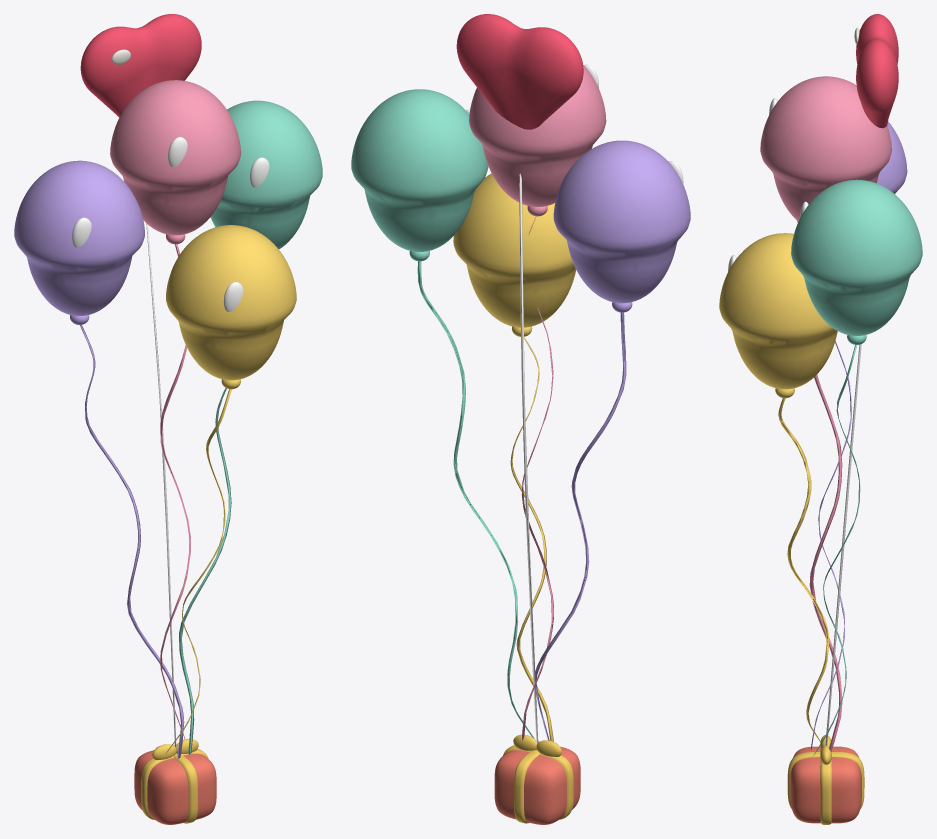
Rendered from globos.glb.
3 views of the same model, side by side, from view 1: azimuth 30°, elevation 25°; view 2: azimuth 150°, elevation 25°; view 3: azimuth 270°, elevation 25° (orthographic). The views are drawn at different scales.
Parts seen in each view (by area): view 1: globo 3, globo 2, globo 0, globo 1, corazón, regalo, cinta 2, cinta 1, cinta corazón, cinta 0, cinta 3, cinta regalo y (+1 smaller); view 2: globo 2, globo 1, globo 3, corazón, globo 0, regalo, cinta corazón, cinta 1, cinta 2, cinta 3, cinta 0, cinta regalo y (+1 smaller); view 3: globo 1, globo 3, globo 0, regalo, corazón, cinta 0, cinta 3, cinta corazón, globo 2, cinta 1, cinta regalo x, cinta 2 (+1 smaller).
Boxes of the visible parts, x1=… form: globo 3: x1=166, y1=225, x2=296, y2=380; globo 2: x1=14, y1=160, x2=144, y2=315; globo 0: x1=110, y1=80, x2=240, y2=235; globo 1: x1=210, y1=100, x2=322, y2=249; corazón: x1=80, y1=14, x2=201, y2=117; regalo: x1=134, y1=745, x2=216, y2=824; cinta 2: x1=80, y1=325, x2=184, y2=758; cinta 1: x1=179, y1=388, x2=231, y2=754; cinta corazón: x1=146, y1=223, x2=176, y2=747; cinta 0: x1=160, y1=244, x2=190, y2=739; cinta 3: x1=165, y1=389, x2=231, y2=753; cinta regalo y: x1=156, y1=746, x2=197, y2=823; globo 2: x1=553, y1=140, x2=690, y2=303; globo 1: x1=351, y1=89, x2=488, y2=251; globo 3: x1=453, y1=173, x2=575, y2=327; corazón: x1=456, y1=14, x2=583, y2=129; globo 0: x1=469, y1=65, x2=606, y2=206; regalo: x1=494, y1=741, x2=580, y2=824; cinta corazón: x1=519, y1=173, x2=538, y2=743; cinta 1: x1=417, y1=261, x2=534, y2=738; cinta 2: x1=534, y1=312, x2=626, y2=740; cinta 3: x1=510, y1=337, x2=553, y2=741; cinta 0: x1=521, y1=216, x2=553, y2=740; cinta regalo y: x1=514, y1=742, x2=557, y2=823; globo 1: x1=791, y1=179, x2=922, y2=335; globo 3: x1=719, y1=233, x2=837, y2=389; globo 0: x1=760, y1=76, x2=891, y2=221; regalo: x1=790, y1=746, x2=861, y2=823; corazón: x1=856, y1=14, x2=898, y2=128; cinta 0: x1=809, y1=374, x2=842, y2=751; cinta 3: x1=778, y1=398, x2=829, y2=742; cinta corazón: x1=825, y1=344, x2=861, y2=745; globo 2: x1=797, y1=121, x2=907, y2=222; cinta 1: x1=813, y1=345, x2=860, y2=755; cinta regalo x: x1=820, y1=749, x2=831, y2=824; cinta 2: x1=810, y1=341, x2=851, y2=749.
Bounding box in the file's own units: 0.6767 × 1.68 × 0.3967.
